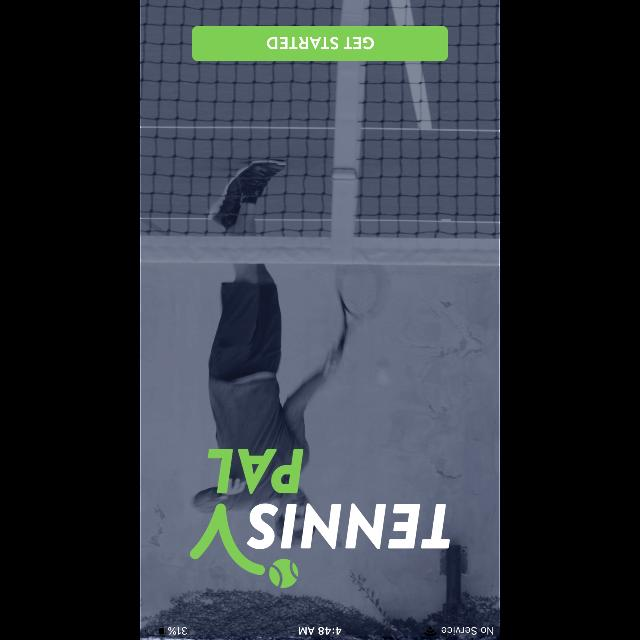backgroundimage: (140, 1, 500, 640)
image: (190, 448, 450, 588)
textbutton: (192, 27, 448, 62)
uppertaskbar: (140, 626, 500, 640)
